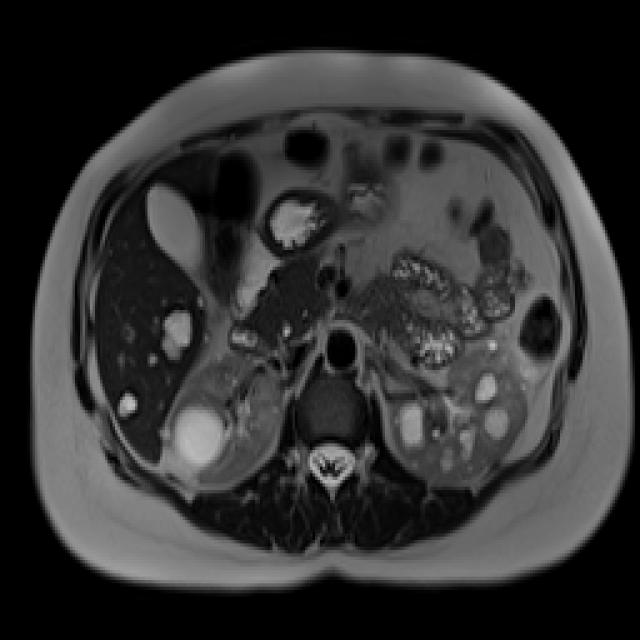sag: (159, 350, 284, 488)
sol: (387, 336, 530, 486)
